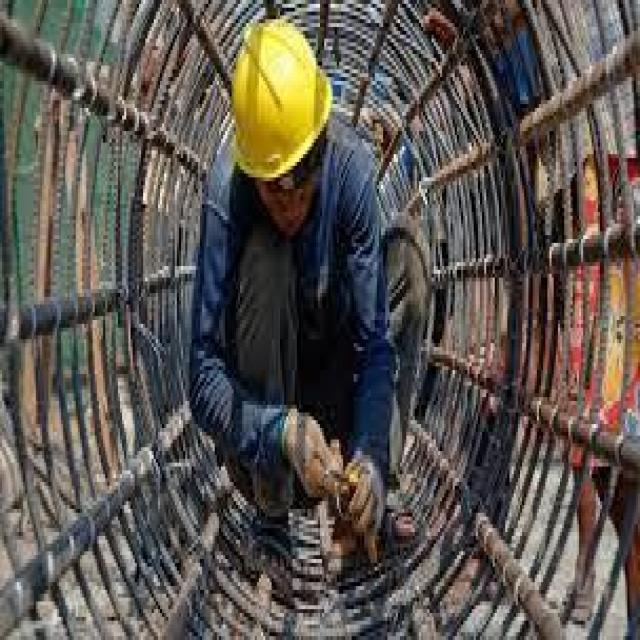Safety-Helmet: (215, 4, 341, 189)
